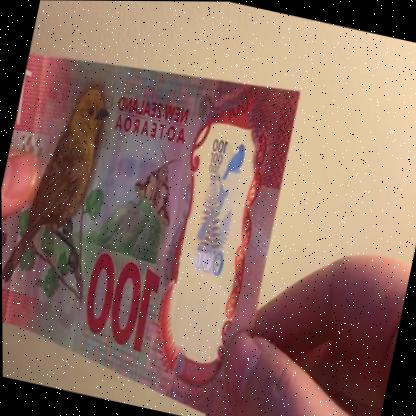100B: (169, 128, 254, 324)
